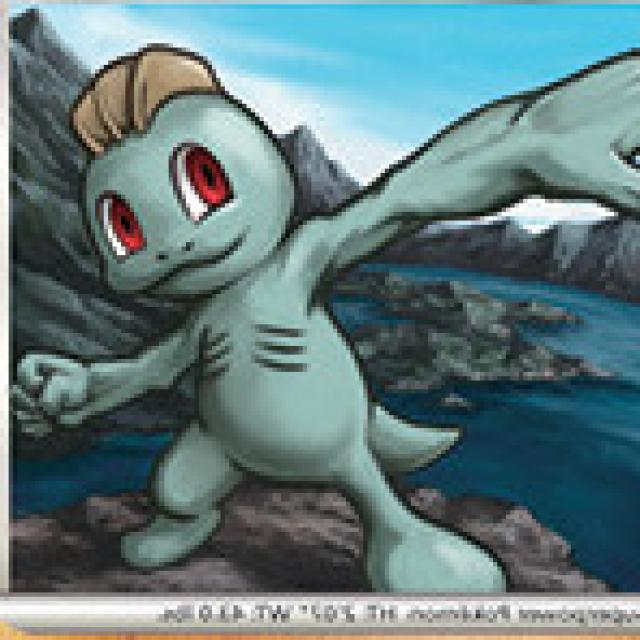Machop: (0, 28, 640, 599)
